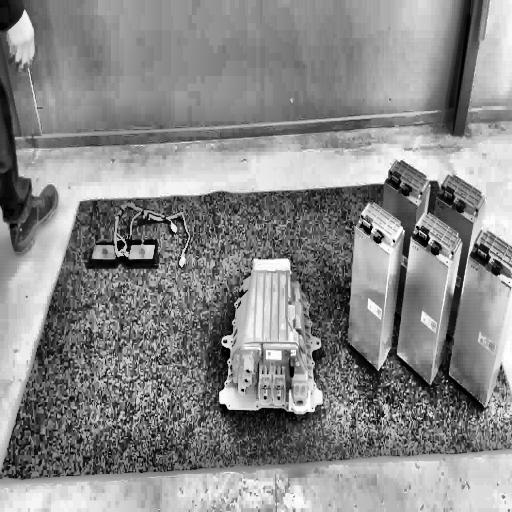battery_module: (216, 250, 325, 422), (396, 212, 464, 386), (448, 225, 512, 407), (347, 199, 406, 370), (437, 174, 485, 221), (385, 159, 432, 206)
high_volt_cable: (111, 199, 195, 270)
